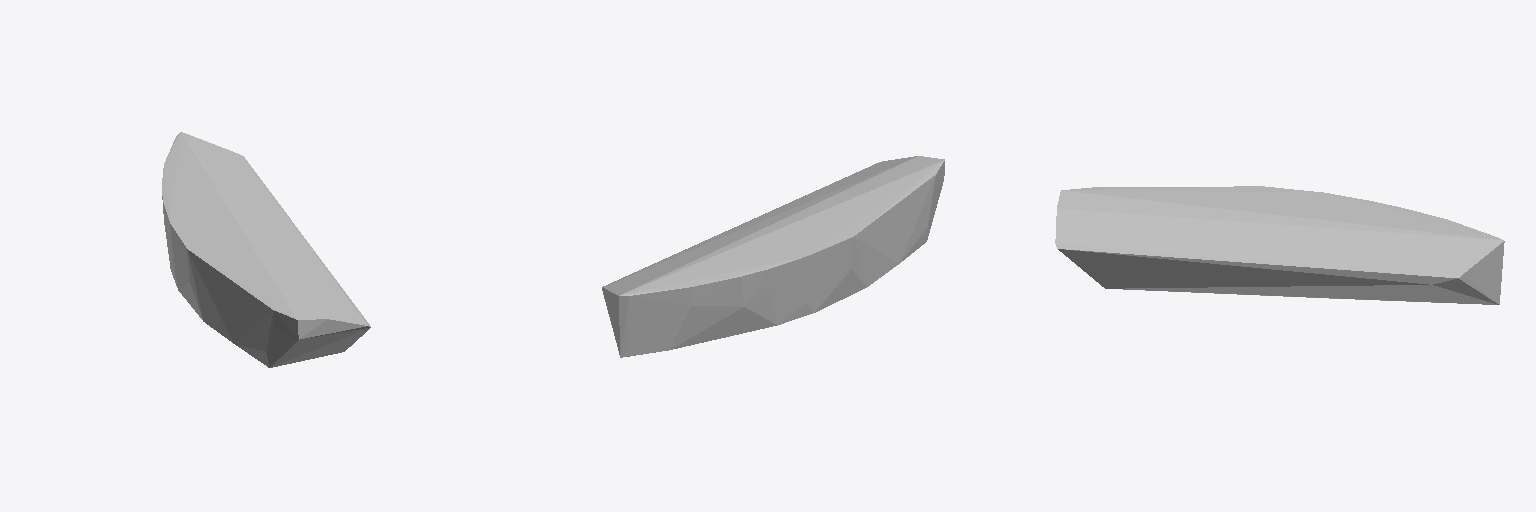
The model's file is trash_bin_collision_28.obj.
The picture shows the model from 3 angles: view 1: azimuth 30°, elevation 25°; view 2: azimuth 150°, elevation 25°; view 3: azimuth 270°, elevation 25°; orthographic projection.
Bounding box in the file's own units: 0.0393 × 0.0162 × 0.099.